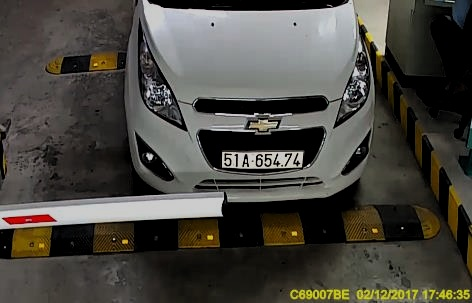plate: (221, 149, 303, 170)
